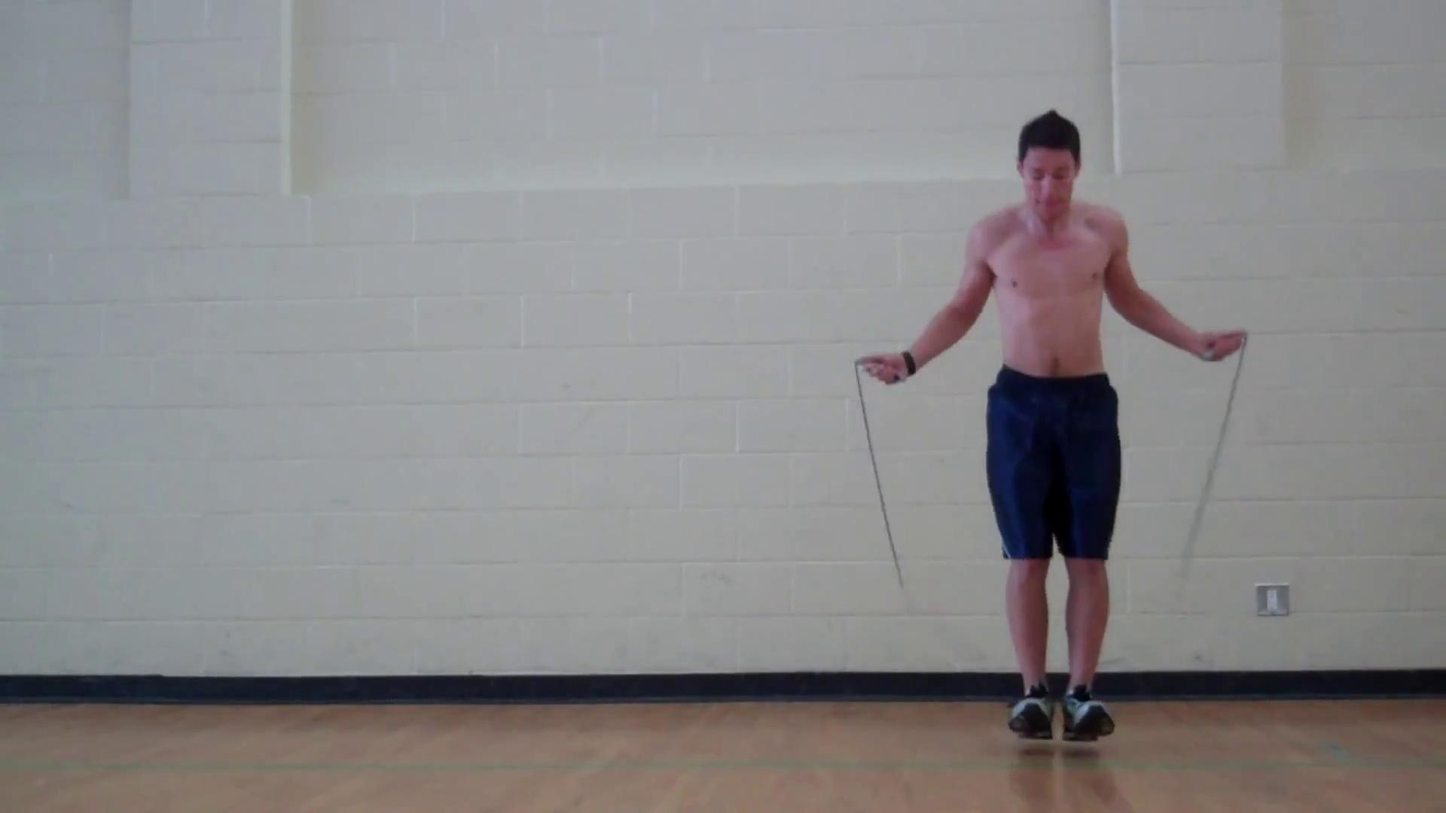victim: (842, 105, 1251, 752)
